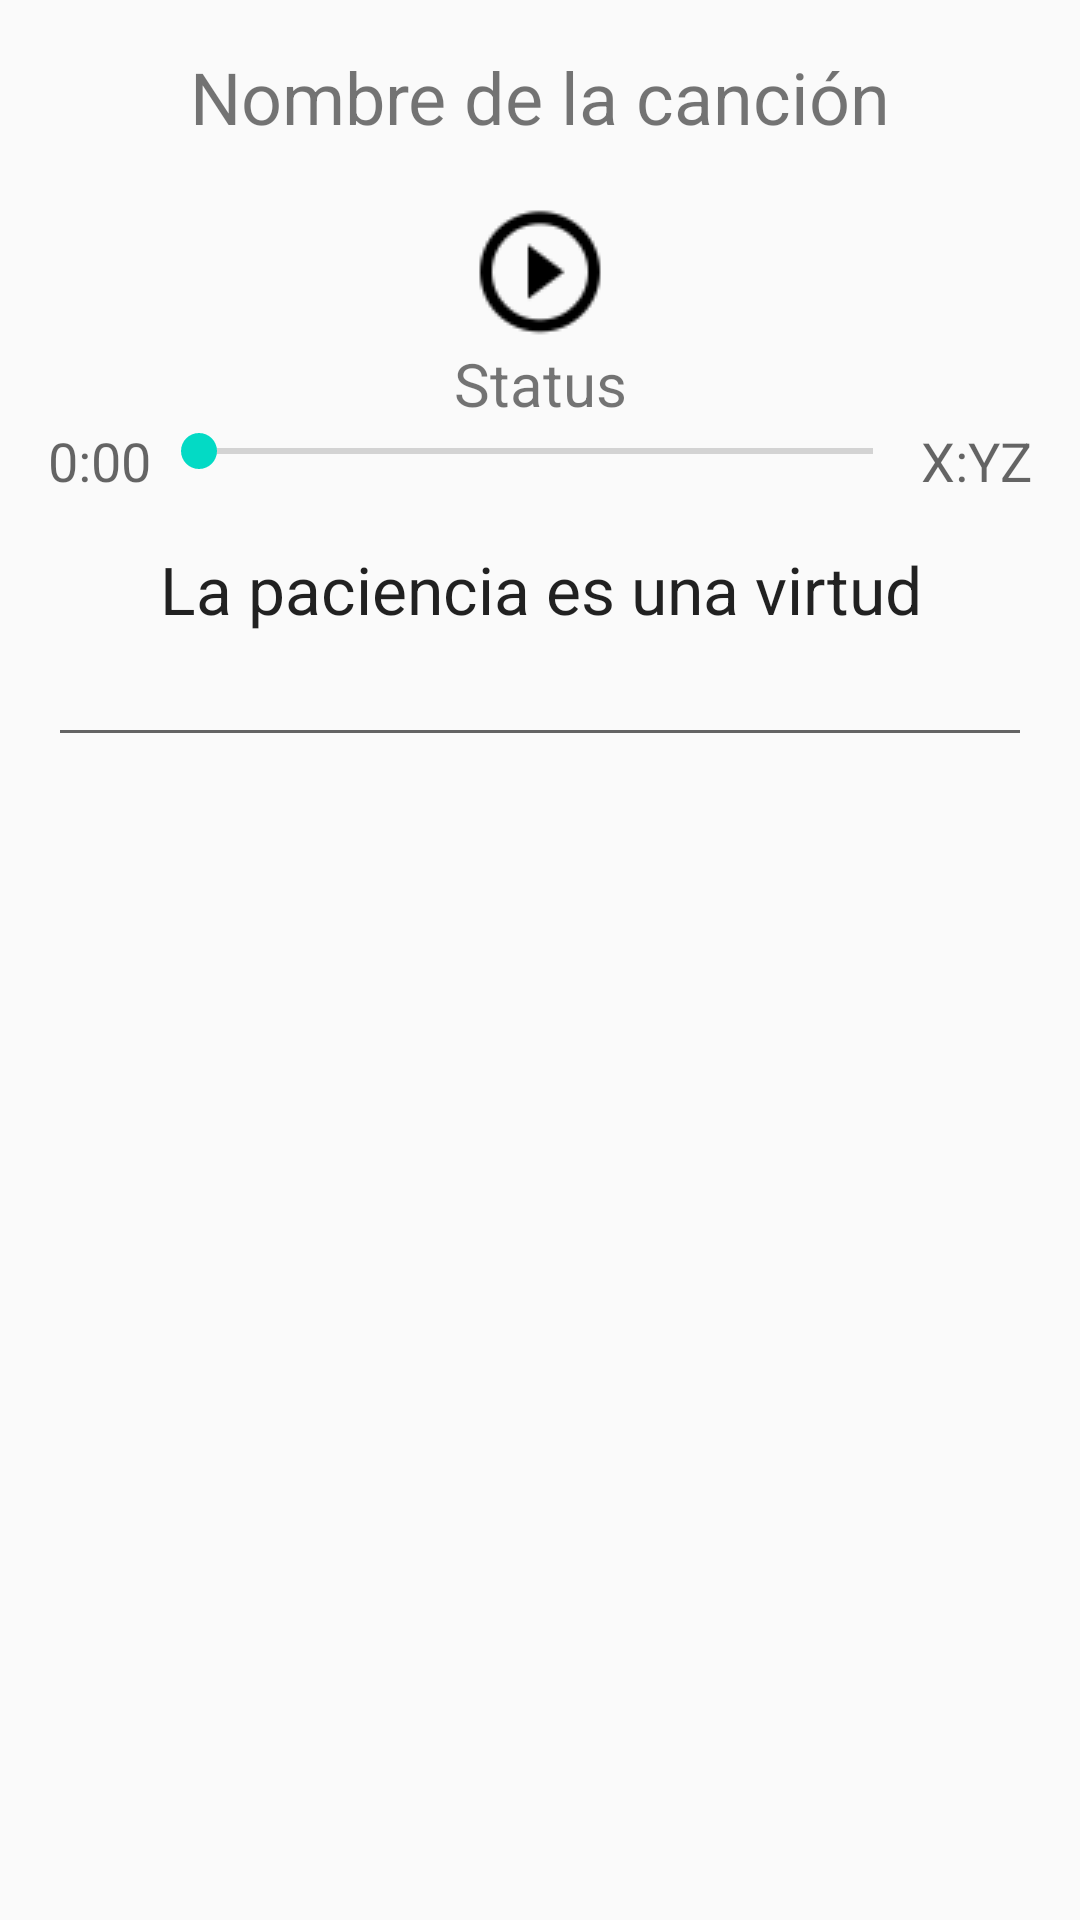

Icons on this 1080px x 1920px Android screen, each with the point to tap as (x=x, y=y):
play sound: (x=540, y=272)
